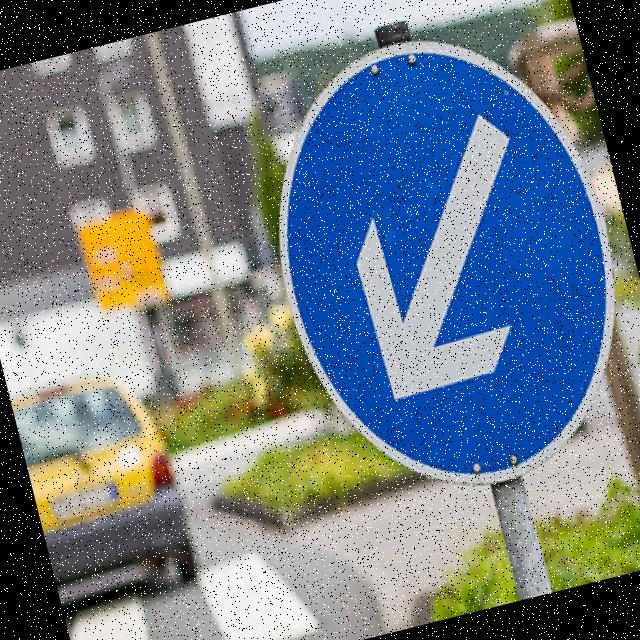compulsory_keep_right: (221, 0, 640, 530)
